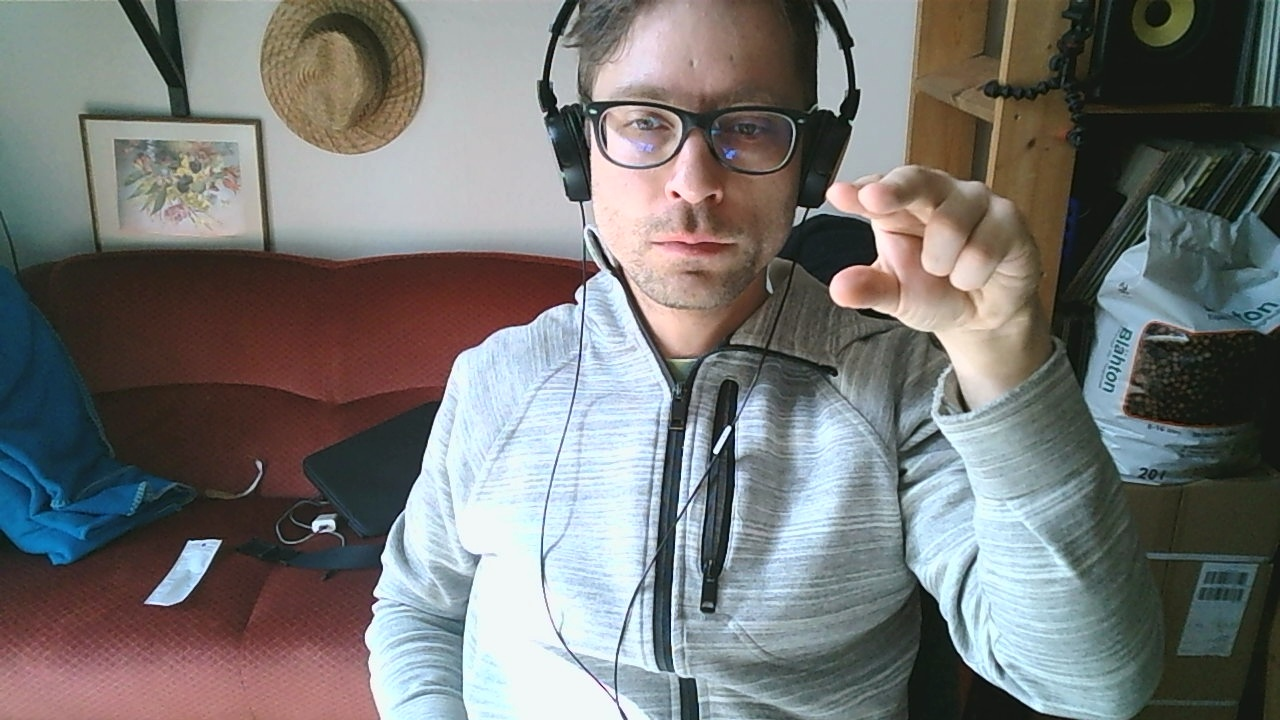no: (825, 164, 1037, 338)
